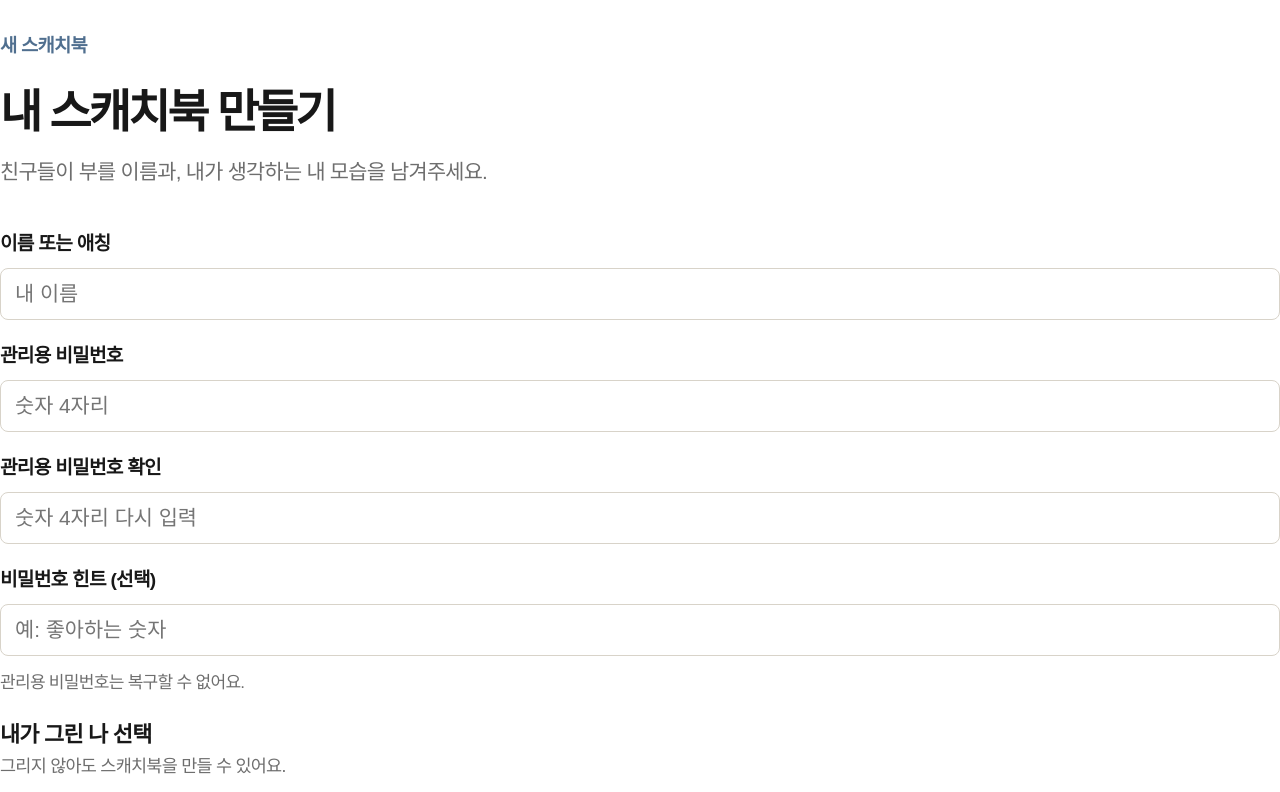
CreateSketchbookForm 생성 초안과 PIN 검사 › PIN 확인이 다르면 요청하지 않고 확인 필드에 오류를 표시한다
Type "해비" into the field labelled "이름 또는 애칭".
click(640, 294); type("해비")  # box 0,268 -> 1279,320
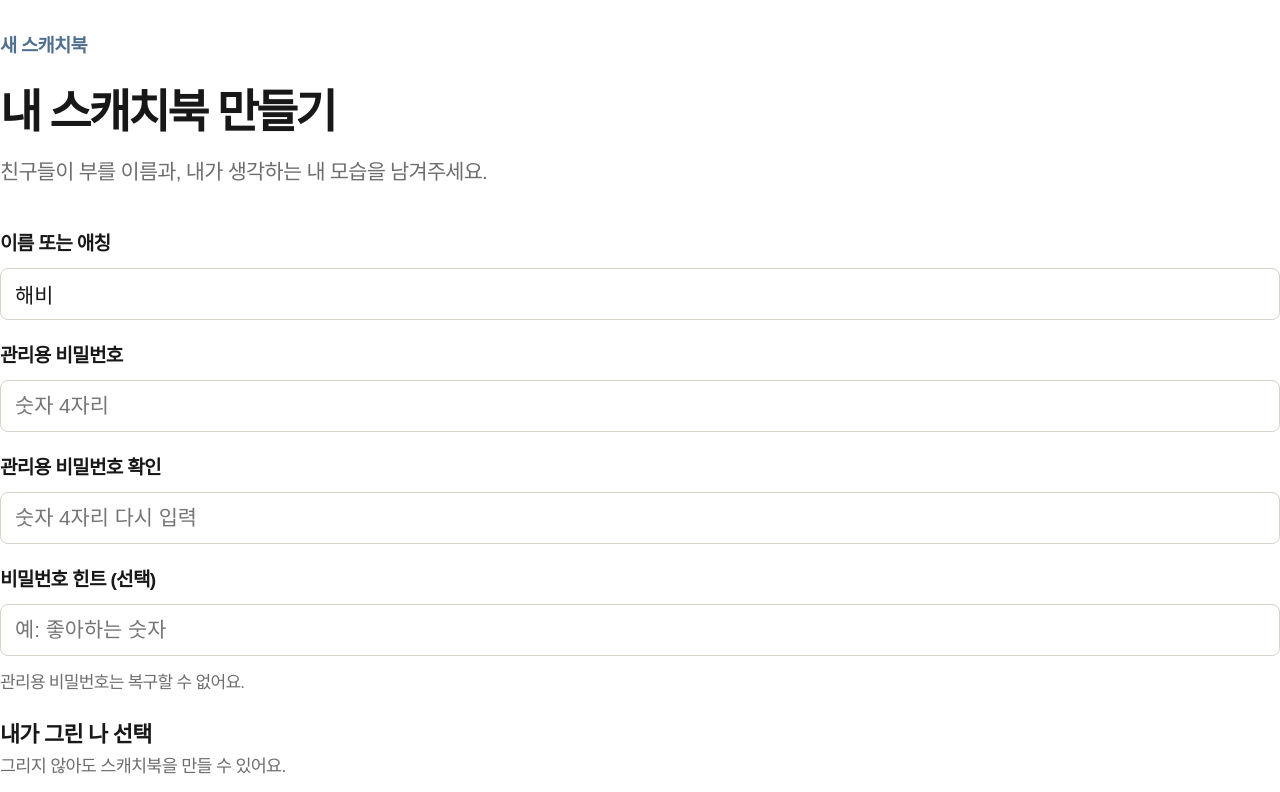
Type "1234" into the password field labelled "관리용 비밀번호".
click(640, 406); type("1234")  # box 0,380 -> 1279,432
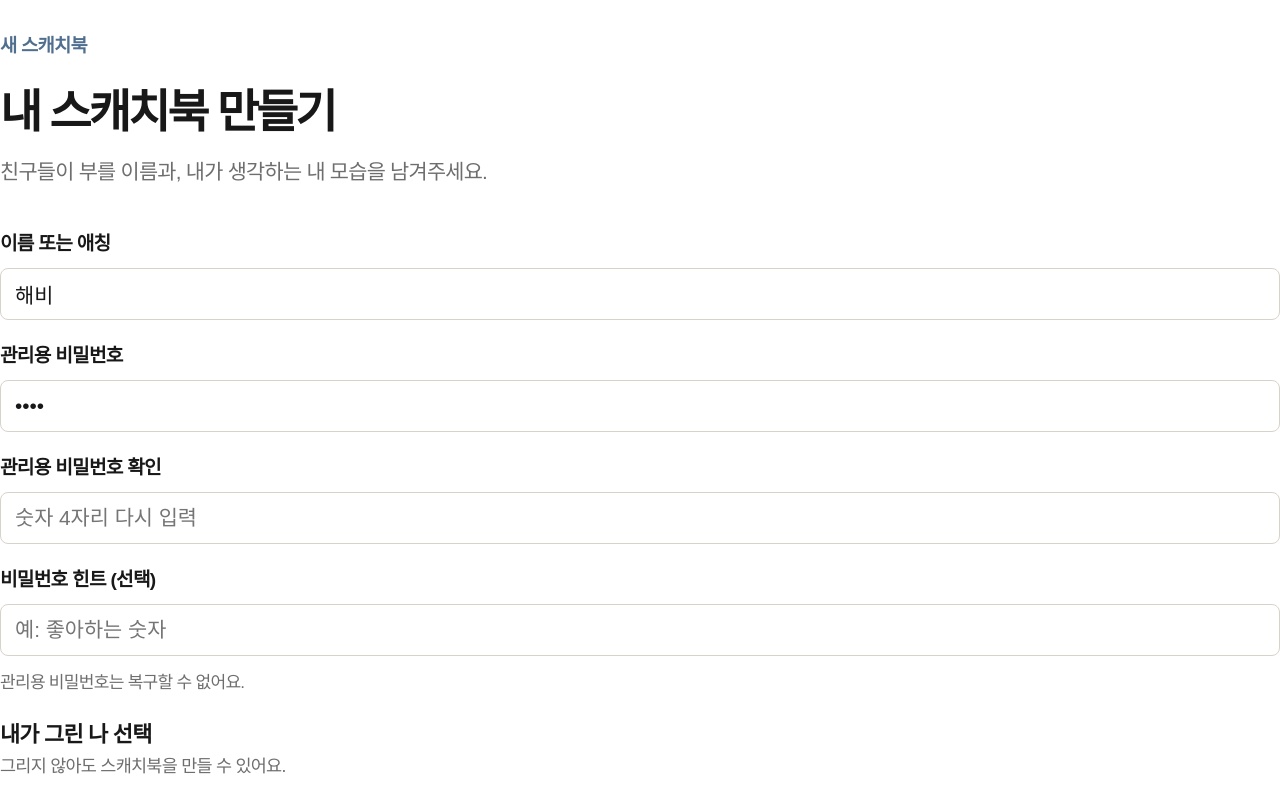
Type "1243" into the password field labelled "관리용 비밀번호 확인".
click(640, 518); type("1243")  # box 0,492 -> 1279,544
(page scrolled)
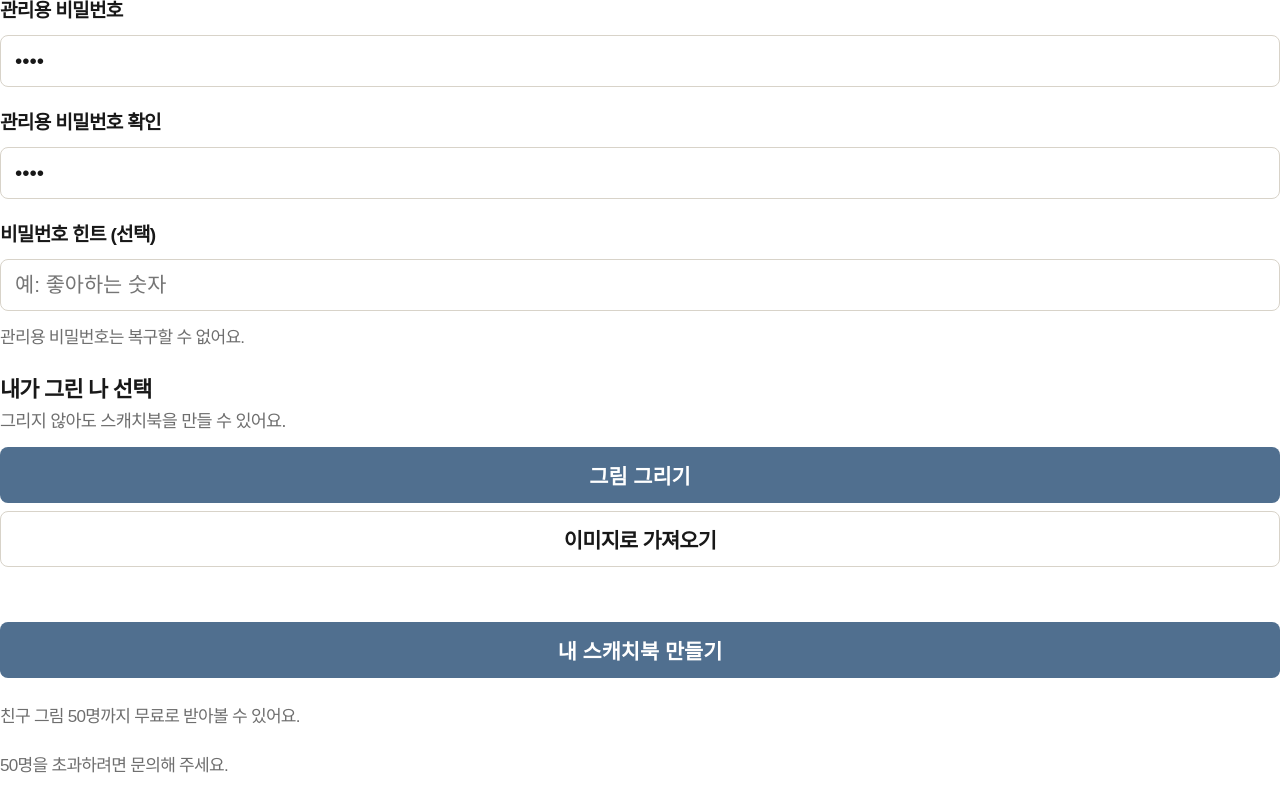
Click the button "내 스캐치북 만들기".
click(640, 650)  # box 0,622 -> 1279,678
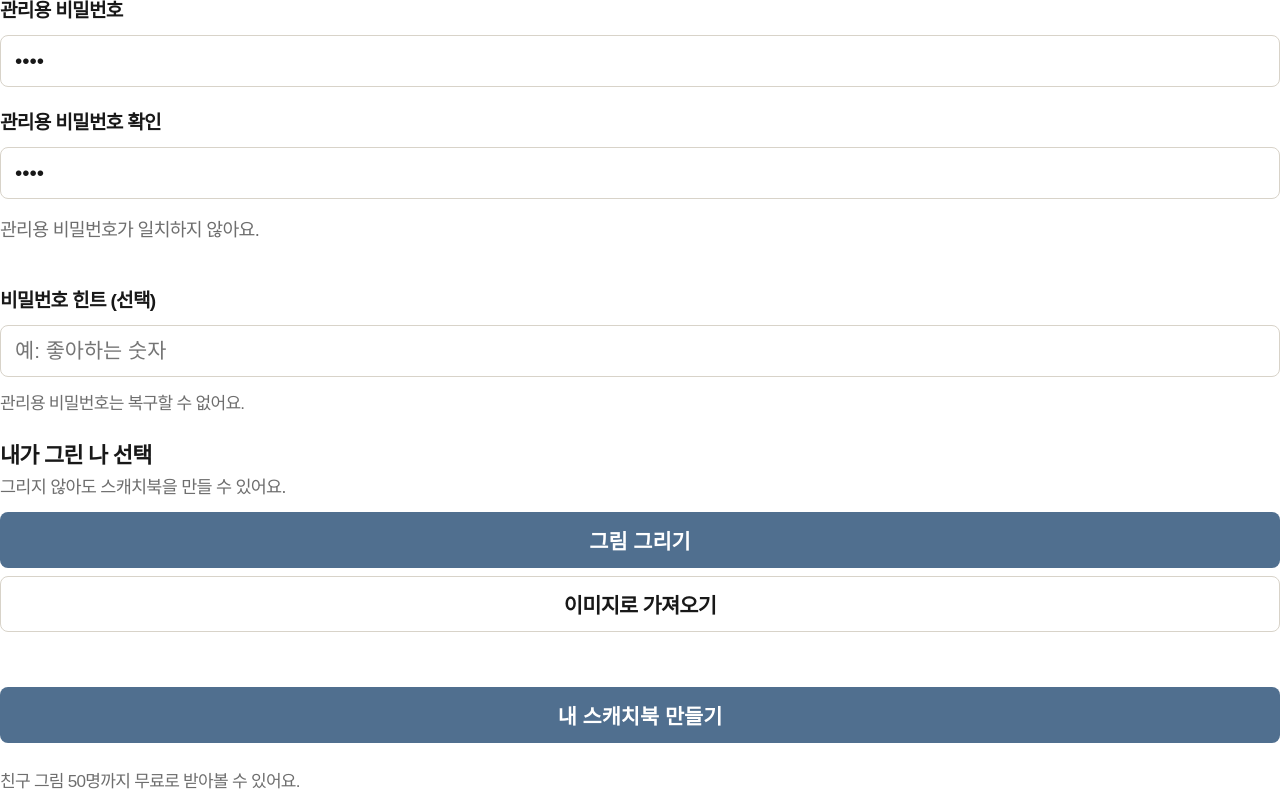
Check: the text "관리용 비밀번호가 일치하지 않아요." is shown, box 0,219 -> 259,240
